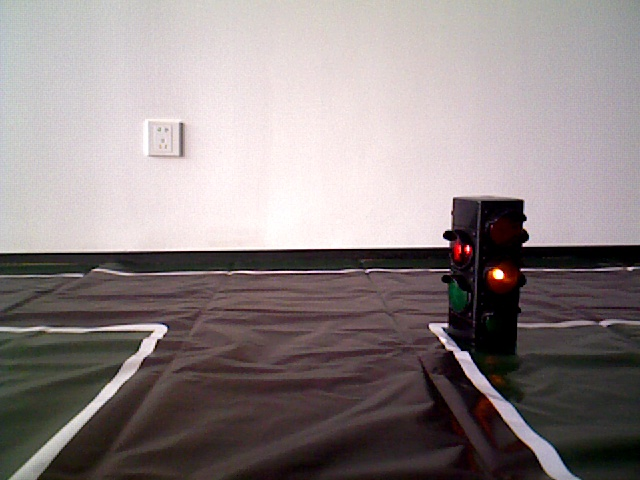yellow: (451, 197, 521, 351)
